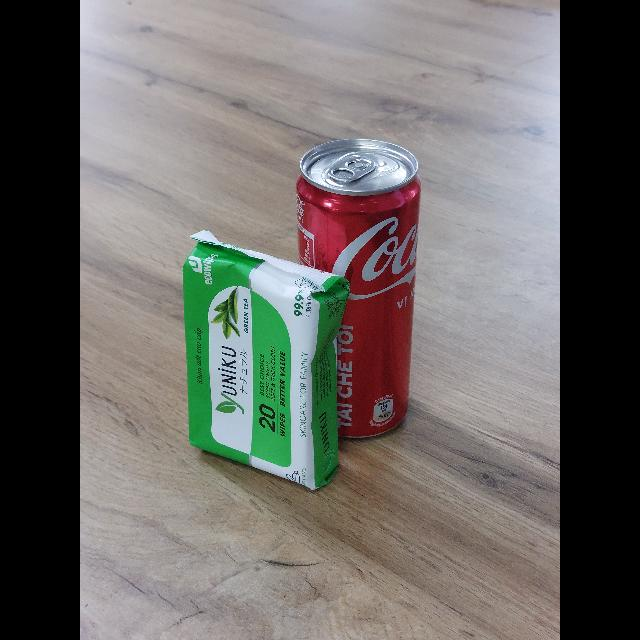coca_cola: (295, 139, 421, 442)
khan_giay: (182, 232, 350, 492)
